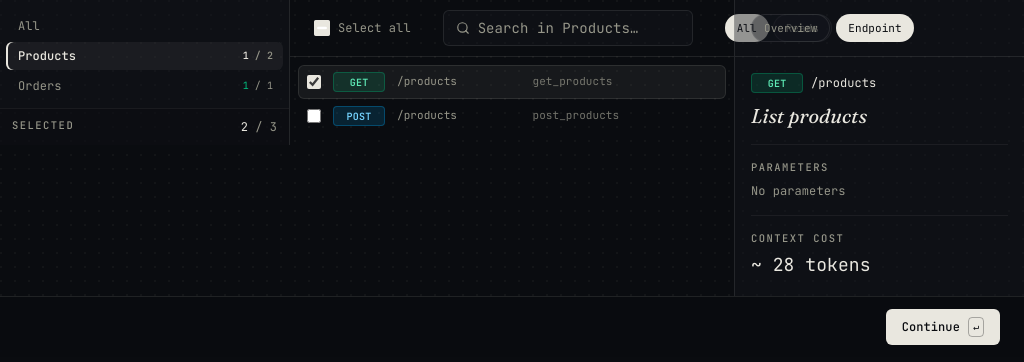
<SelectionScreen> 3-col layout (phase 04bis) › "All" reveals every endpoint across tags
Click the button with aria-label "tag: all" at [29, 26], box [6,12,283,40]
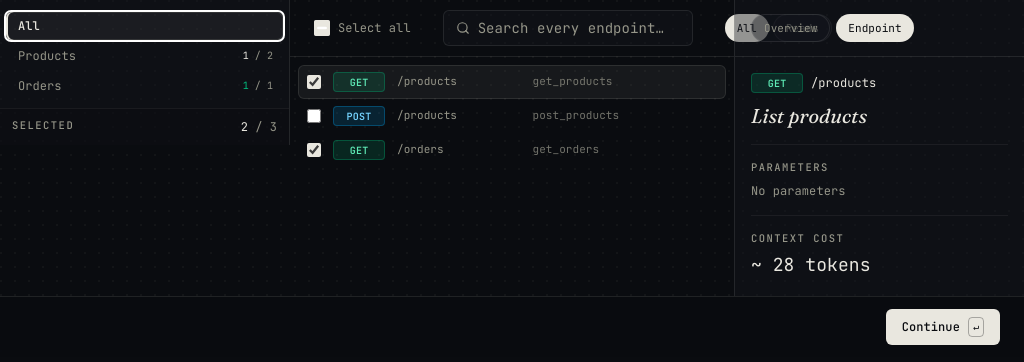
Check: the text "/products" next to "get_products" is shown, box [397,75,457,89]
Check: the text "/orders" is shown, box [397,143,444,157]
